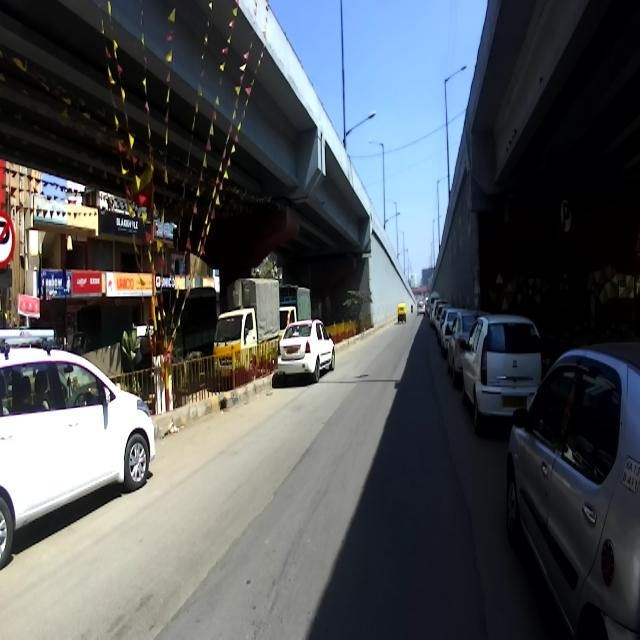car ahead at: (0, 320, 156, 548), (456, 312, 544, 423), (274, 317, 338, 389)
